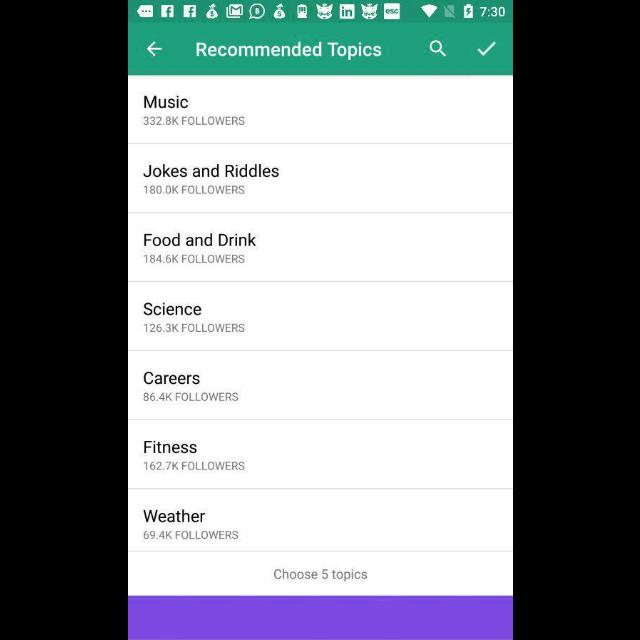icon: (428, 41, 446, 58), (476, 42, 496, 56), (146, 42, 162, 56)
text: (196, 42, 380, 62), (143, 164, 279, 178), (143, 233, 255, 247), (274, 568, 366, 582), (143, 324, 244, 334), (143, 254, 244, 264), (144, 530, 238, 540), (144, 392, 238, 402), (143, 462, 244, 471), (143, 116, 244, 125), (143, 302, 201, 316), (143, 186, 244, 194), (143, 371, 200, 385), (143, 510, 205, 522), (144, 441, 196, 454), (144, 95, 188, 108)
toolbar: (128, 24, 512, 76)
uppertaskbar: (128, 1, 512, 23)
